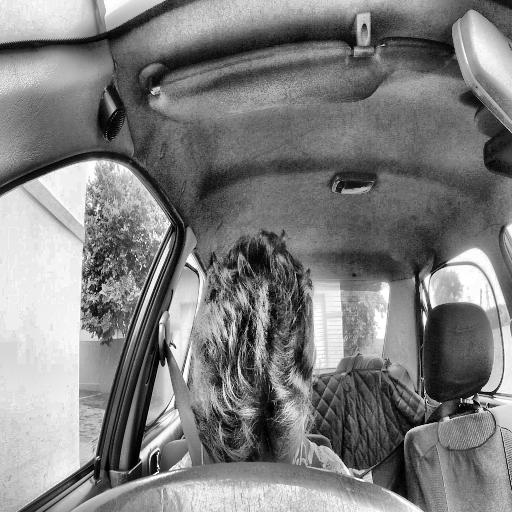drowsy: (190, 225, 316, 482)
